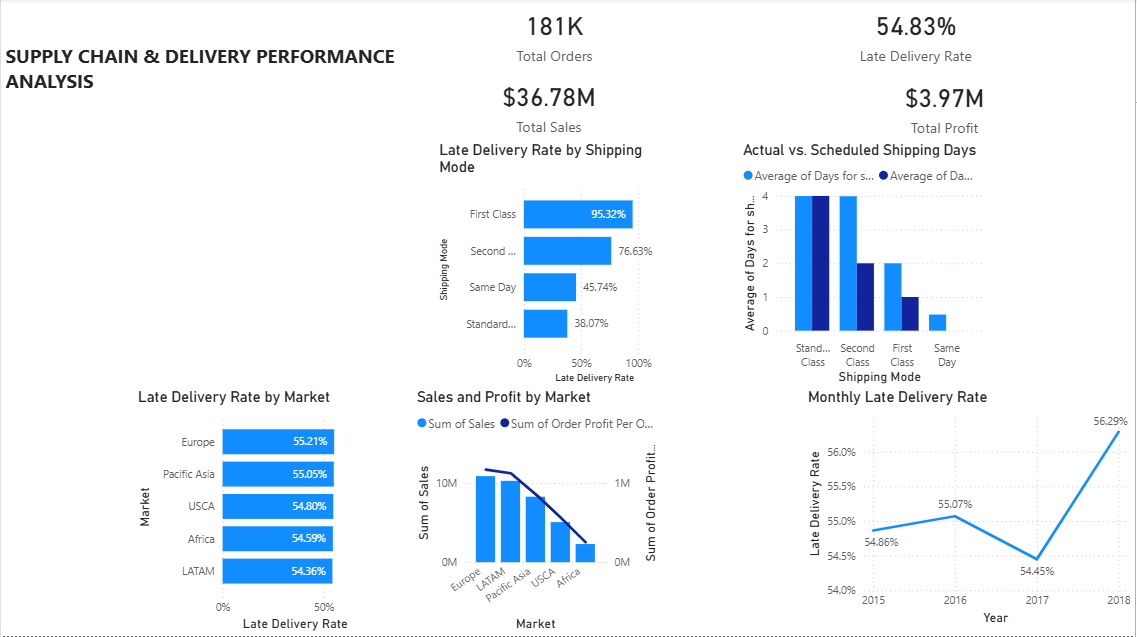

What the dashboard file says about the page in this screenshot:
{"tool":"powerbi","page":{"name":"Page 1","canvas":[1280,720],"ordinal":0},"visuals":[{"type":"card","fields":{"Values":["cleaned_supply_chain.Total Orders"]},"box":[399.4,0,451.6,80.4],"z":0},{"type":"card","fields":{"Values":["cleaned_supply_chain.Late Delivery Rate"]},"box":[786.1,0,493.9,80.4],"z":1000},{"type":"card","fields":{"Values":["cleaned_supply_chain.Total Sales"]},"box":[386.7,80.4,464.3,80.4],"z":2000},{"type":"card","fields":{"Values":["cleaned_supply_chain.Total Profit"]},"box":[851,81.9,429,80.4],"z":3000},{"type":"clusteredBarChart","fields":{"Category":["cleaned_supply_chain.Shipping Mode"],"Y":["cleaned_supply_chain.Late Delivery Rate"]},"box":[489.7,160.9,280.8,279.4],"z":4000},{"type":"clusteredColumnChart","title":"Actual vs. Scheduled Shipping Days","fields":{"Category":["cleaned_supply_chain.Shipping Mode"],"Y":["Avg(cleaned_supply_chain.Days for shipping (real))","Avg(cleaned_supply_chain.Days for shipment (scheduled))"]},"box":[832.6,160.9,280.8,279.4],"z":5000},{"type":"clusteredBarChart","fields":{"Category":["cleaned_supply_chain.Market"],"Y":["cleaned_supply_chain.Late Delivery Rate"]},"box":[149.6,440.3,282.2,279.4],"z":6000},{"type":"lineClusteredColumnComboChart","title":"Sales and Profit by Market","fields":{"Category":["cleaned_supply_chain.Market"],"Y":["Sum(cleaned_supply_chain.Sales)"],"Y2":["Sum(cleaned_supply_chain.Order Profit Per Order)"]},"box":[464.3,440.3,282.2,279.4],"z":7000},{"type":"lineChart","title":"Monthly Late Delivery Rate","fields":{"Category":["cleaned_supply_chain.order date (DateOrders).Variation.Date Hierarchy.Year","cleaned_supply_chain.order date (DateOrders).Variation.Date Hierarchy.Month"],"Y":["cleaned_supply_chain.Late Delivery Rate"]},"box":[906,440.3,374,272.4],"z":8000},{"type":"textbox","box":[0,45,464,150],"z":8003}]}

Visuals, with their boxes in screenshot pixels (x1, y1, x2, y2), scaled from the page's 1280x720 canvas onto the 1137x637 screenshot:
card - cleaned_supply_chain.Total Orders: [left=355, top=0, right=756, bottom=71]
card - cleaned_supply_chain.Late Delivery Rate: [left=698, top=0, right=1136, bottom=71]
card - cleaned_supply_chain.Total Sales: [left=343, top=71, right=756, bottom=142]
card - cleaned_supply_chain.Total Profit: [left=756, top=72, right=1136, bottom=144]
clusteredBarChart - cleaned_supply_chain.Shipping Mode x cleaned_supply_chain.Late Delivery Rate: [left=435, top=142, right=684, bottom=390]
"Actual vs. Scheduled Shipping Days" clusteredColumnChart: [left=740, top=142, right=989, bottom=390]
clusteredBarChart - cleaned_supply_chain.Market x cleaned_supply_chain.Late Delivery Rate: [left=133, top=390, right=384, bottom=636]
"Sales and Profit by Market" lineClusteredColumnComboChart: [left=412, top=390, right=663, bottom=636]
"Monthly Late Delivery Rate" lineChart: [left=805, top=390, right=1136, bottom=631]
textbox: [left=0, top=40, right=412, bottom=173]
